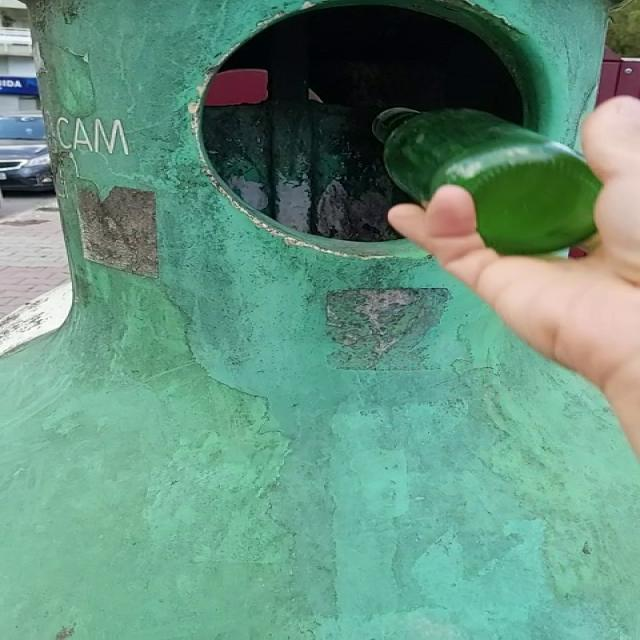Glass: (373, 108, 603, 255)
